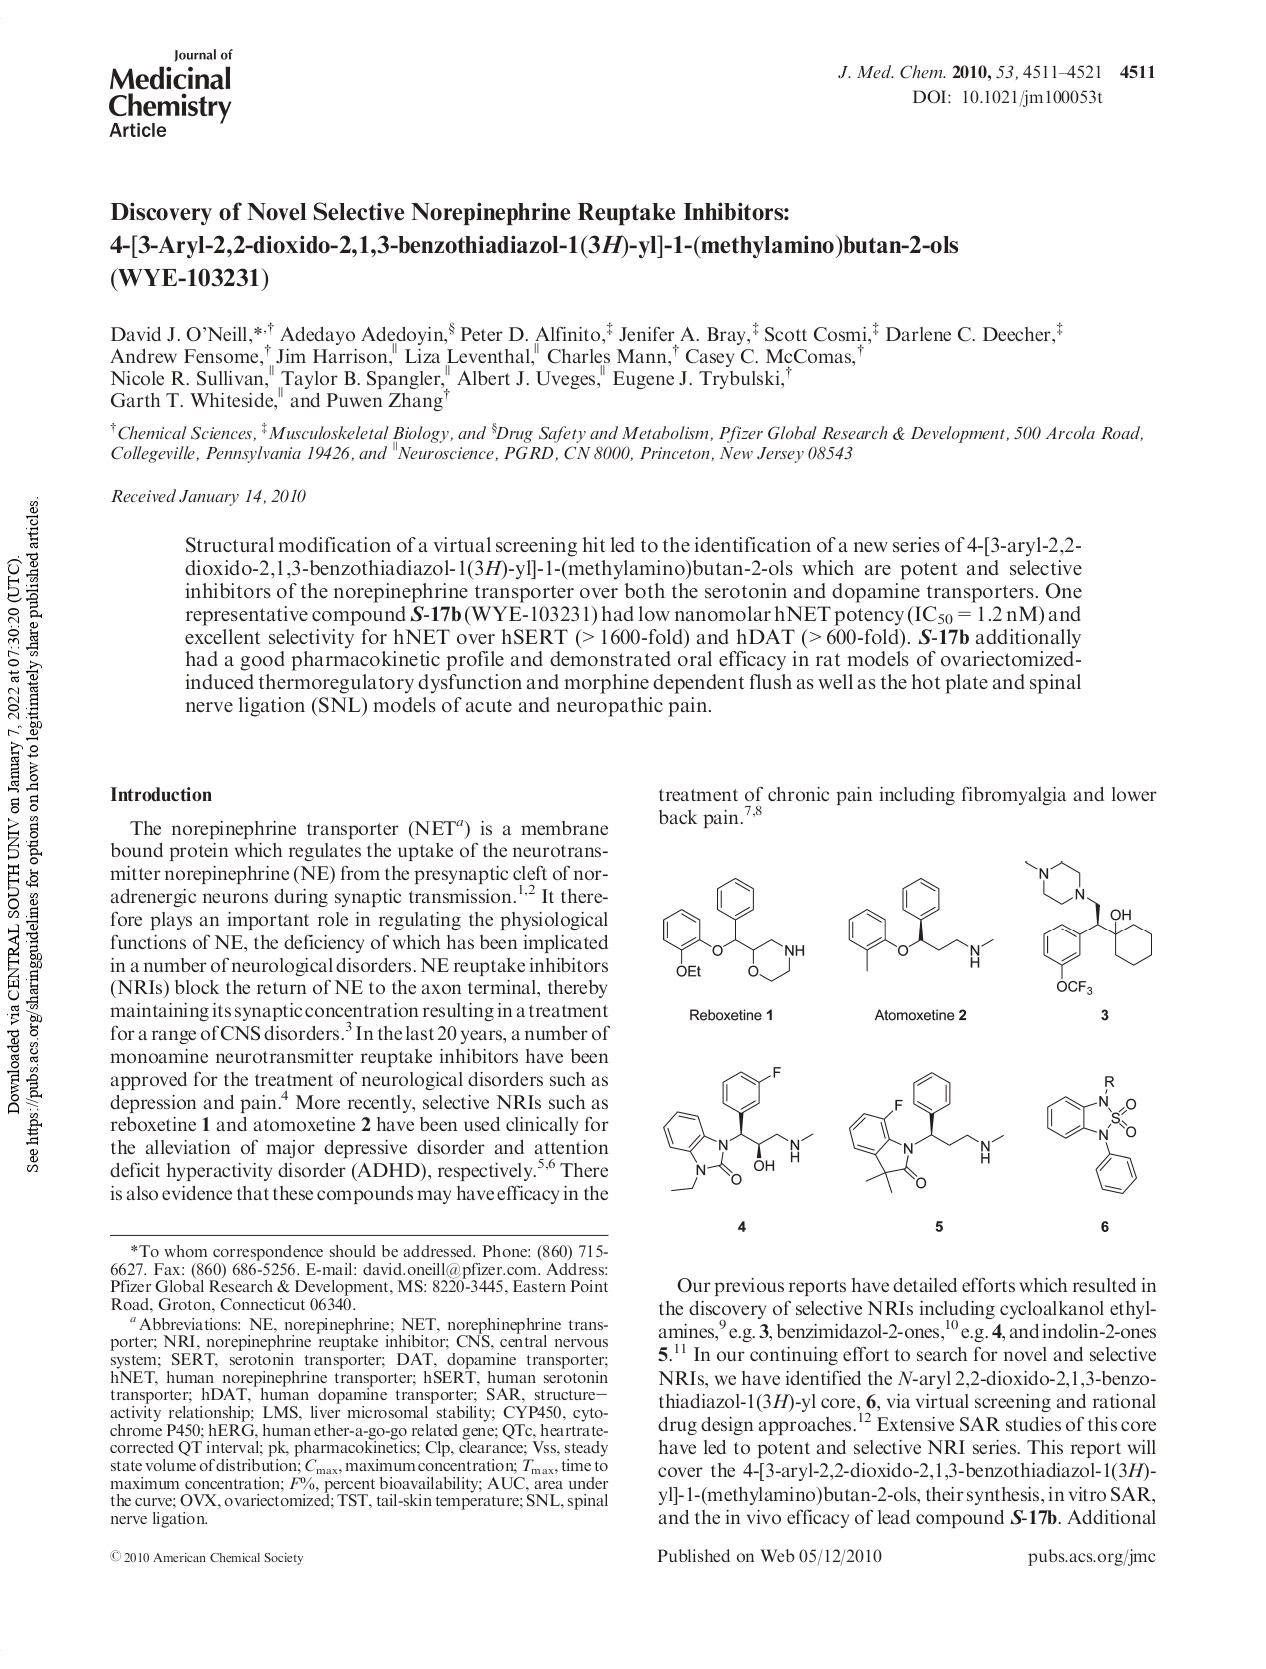exist_molecular: (1015, 847, 1158, 1005), (657, 1060, 817, 1198), (846, 1065, 1005, 1196), (657, 870, 806, 995), (834, 872, 992, 988), (1044, 1065, 1150, 1197)
